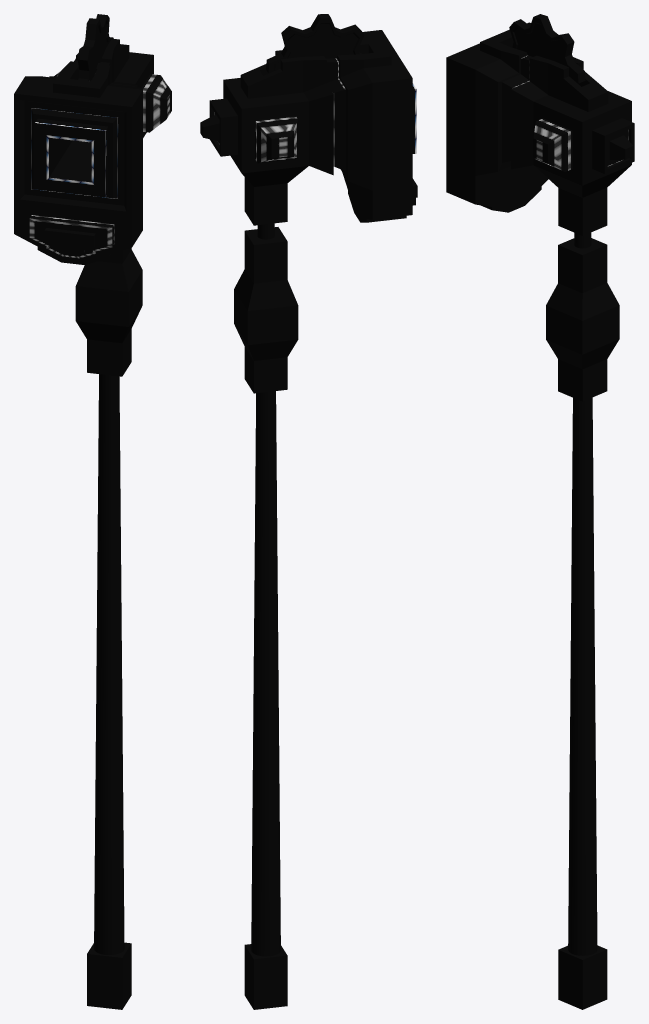
The model's file is Dispenser_2_0.fbx.
The picture shows the model from 3 angles, left to right: view 1: azimuth 30°, elevation 25°; view 2: azimuth 150°, elevation 25°; view 3: azimuth 270°, elevation 25°; orthographic projection. The views are drawn at different scales.
Visible parts, largest first — view 1: Dispenser, Dispenser_Prop_0, Dispenser_Prop_1, Gear; view 2: Dispenser, Dispenser_Prop_0, Dispenser_Prop_1, Gear; view 3: Dispenser, Dispenser_Prop_0, Dispenser_Prop_1, Gear.
Boxes of the visible parts, left/top/right/bottom form: Dispenser: left=14, top=38, right=171, bottom=264; Dispenser_Prop_0: left=87, top=374, right=131, bottom=1009; Dispenser_Prop_1: left=75, top=247, right=142, bottom=376; Gear: left=77, top=14, right=113, bottom=81; Dispenser: left=200, top=30, right=417, bottom=222; Dispenser_Prop_0: left=244, top=177, right=287, bottom=1009; Dispenser_Prop_1: left=234, top=227, right=298, bottom=393; Gear: left=266, top=14, right=364, bottom=73; Dispenser: left=446, top=22, right=634, bottom=212; Dispenser_Prop_0: left=558, top=188, right=607, bottom=1009; Dispenser_Prop_1: left=546, top=238, right=619, bottom=401; Gear: left=509, top=14, right=585, bottom=83.
Size of the model in its own units: 1.6 by 9.08 by 1.6.
Materials: 1 (1 with a texture image).
